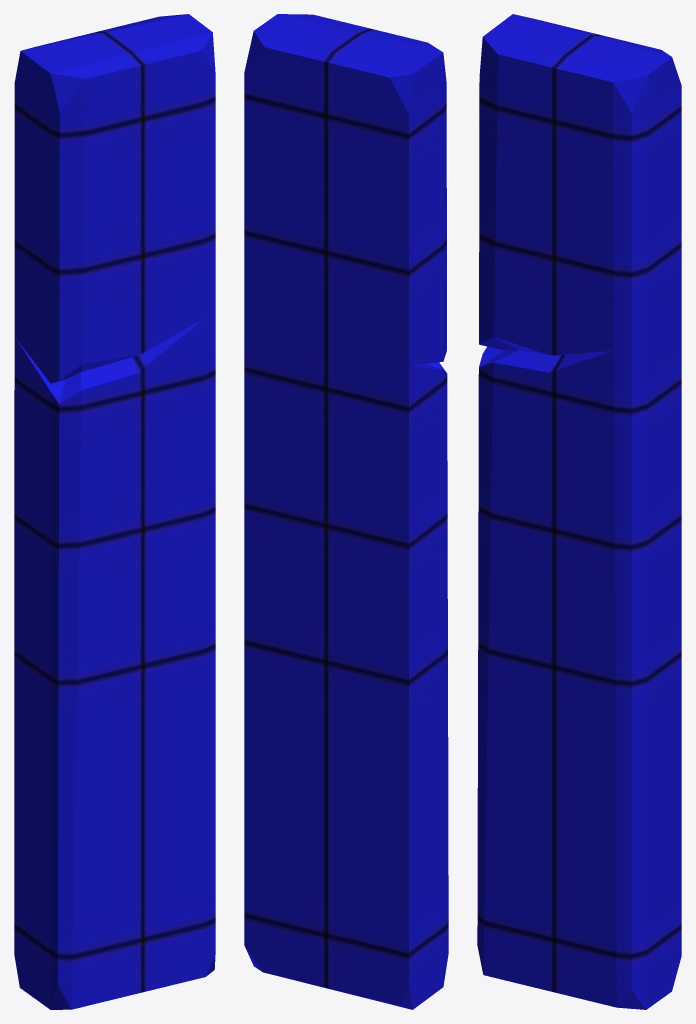
The model's file is railtie04.glb.
The picture shows the model from 3 angles, left to right: view 1: azimuth 30°, elevation 25°; view 2: azimuth 150°, elevation 25°; view 3: azimuth 330°, elevation 25°; orthographic projection.
Size of the model in its own units: 13.62 by 73.93 by 6.52.
1 material, 1 textured.
